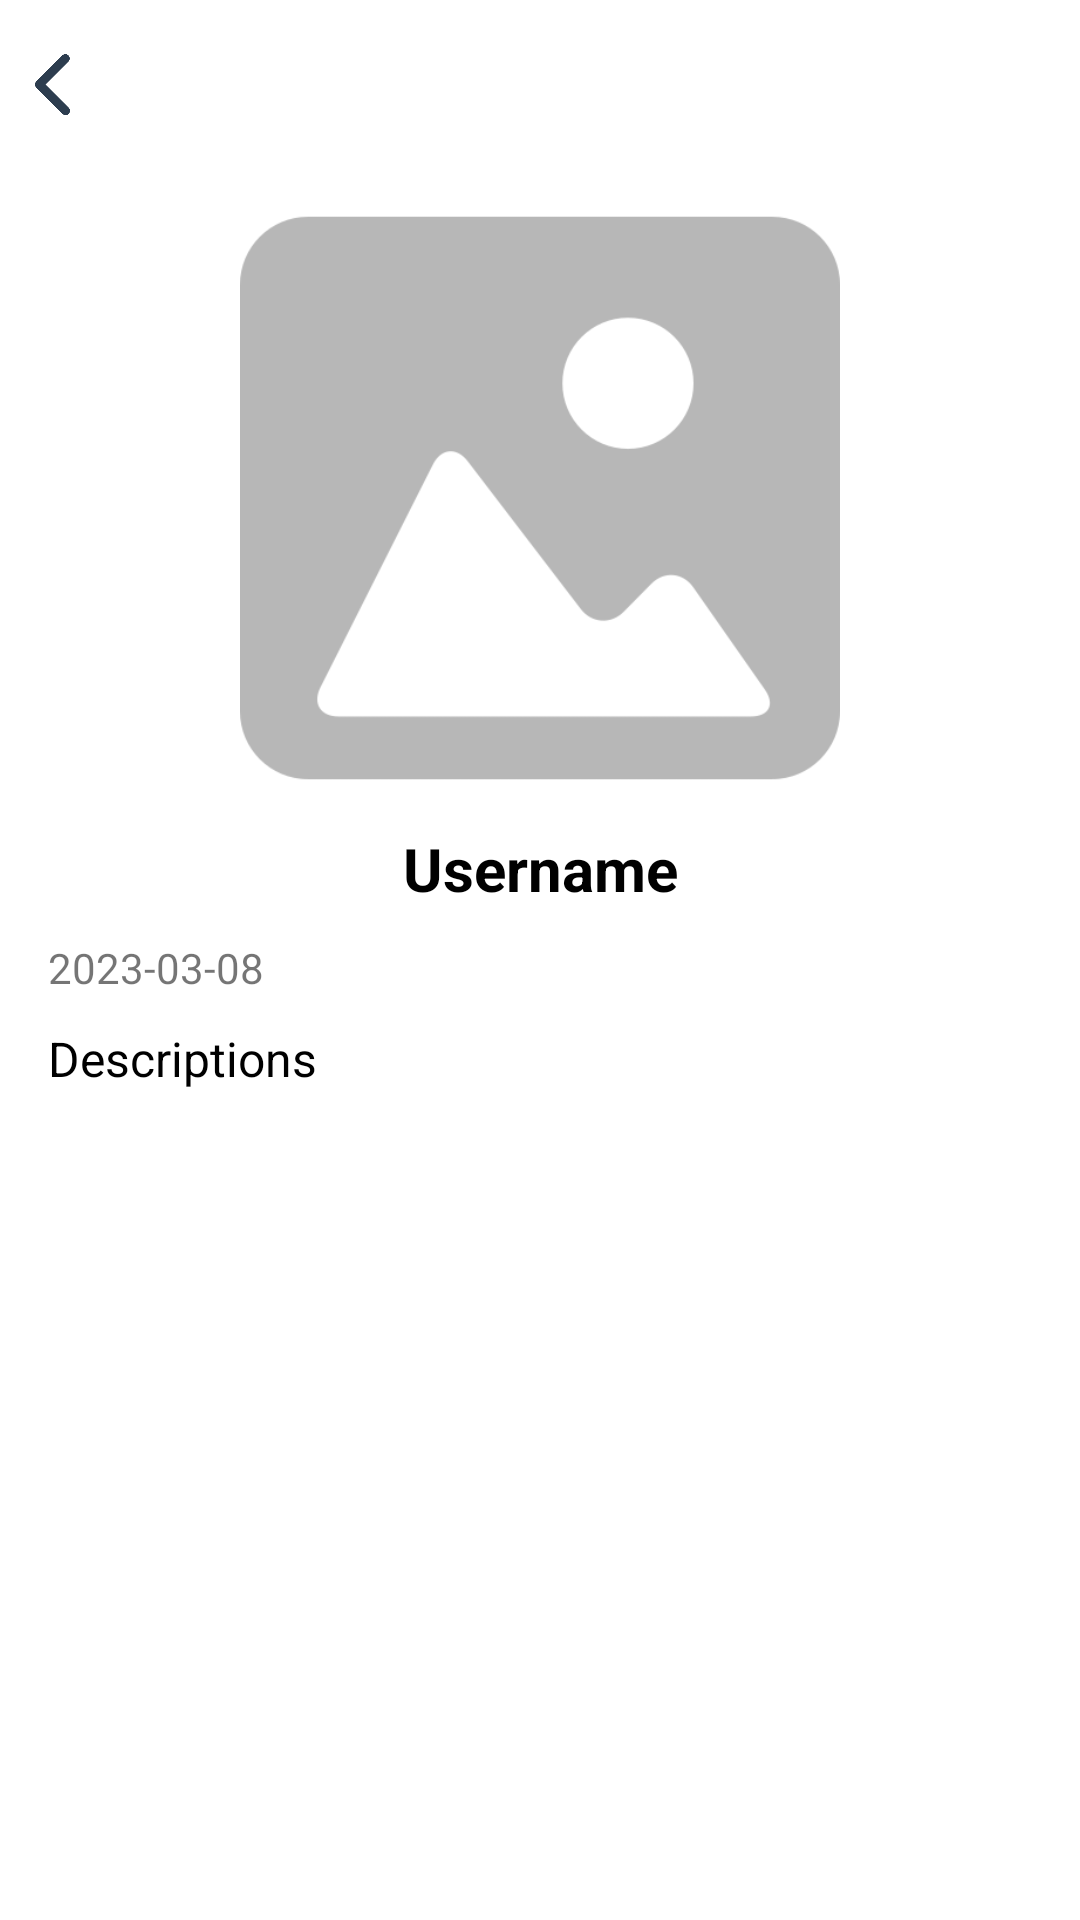

Icon click points for this 1080 x 1920 phone screenshot, format [x,y]:
left back: [52,84]
